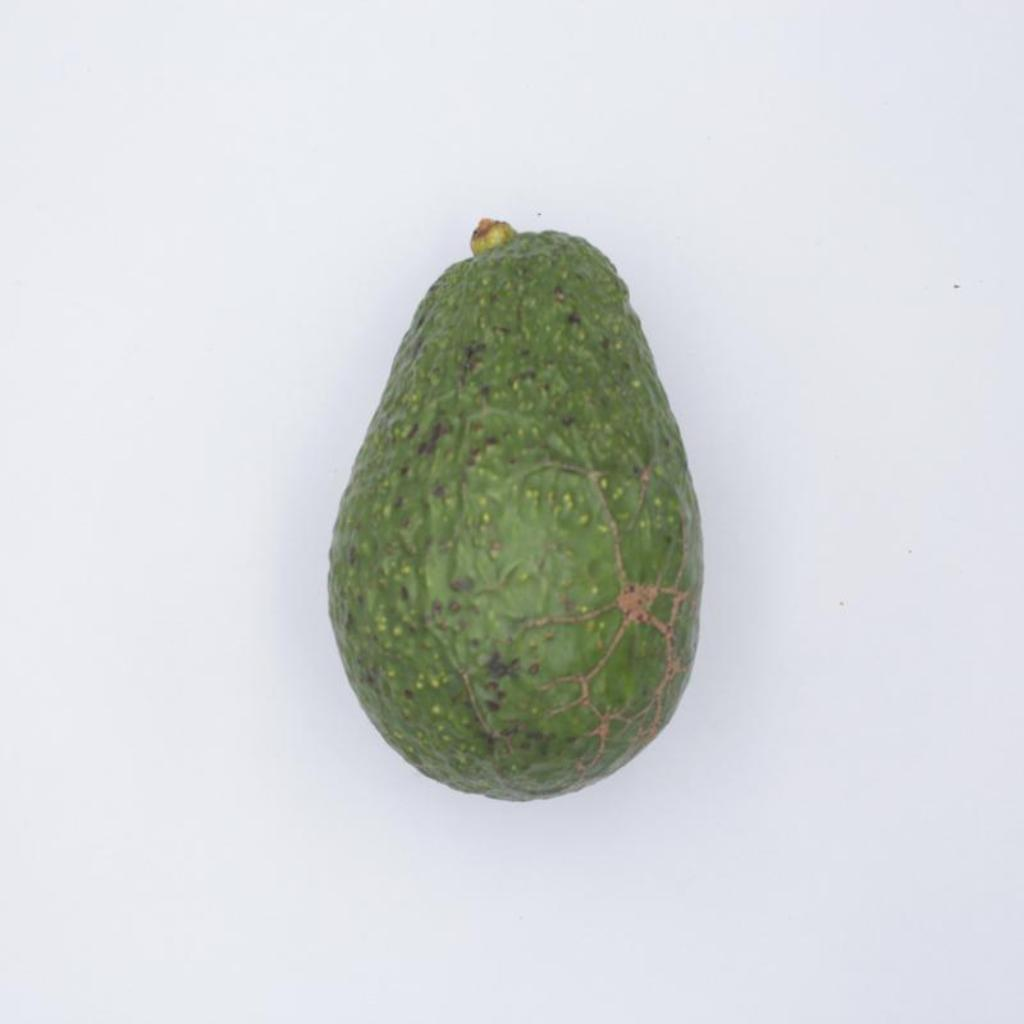rona: (329, 220, 701, 797)
